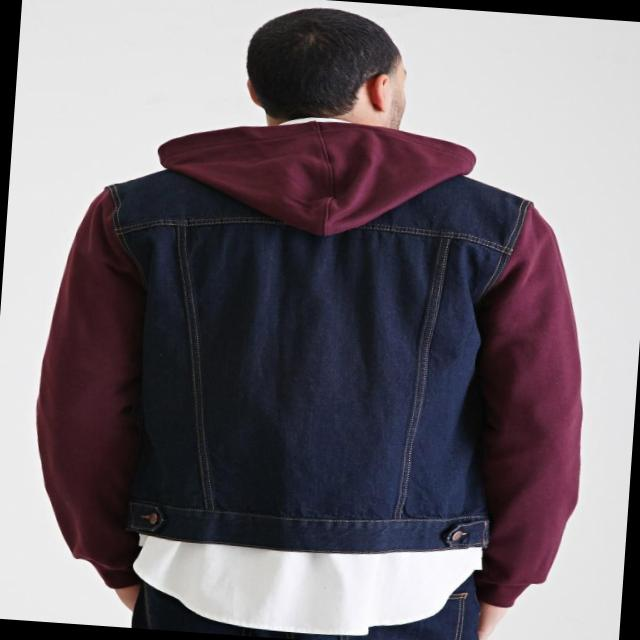Jacket: (23, 113, 604, 596)
